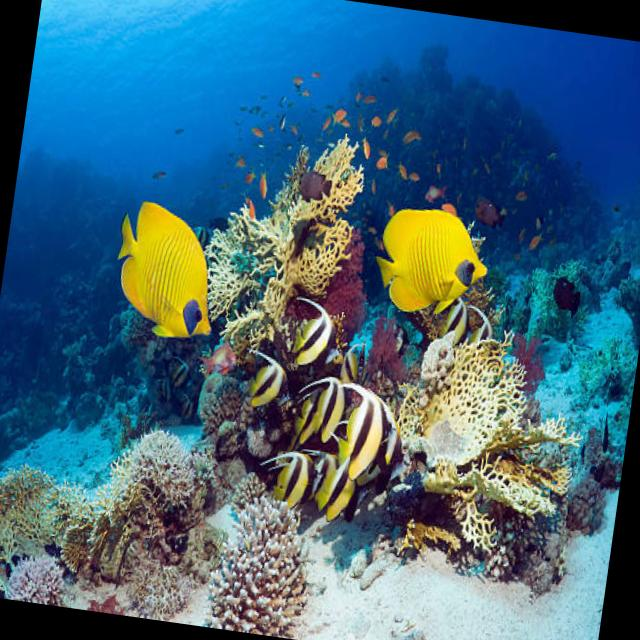ButterflyFish: (109, 200, 228, 343), (374, 200, 495, 324)
